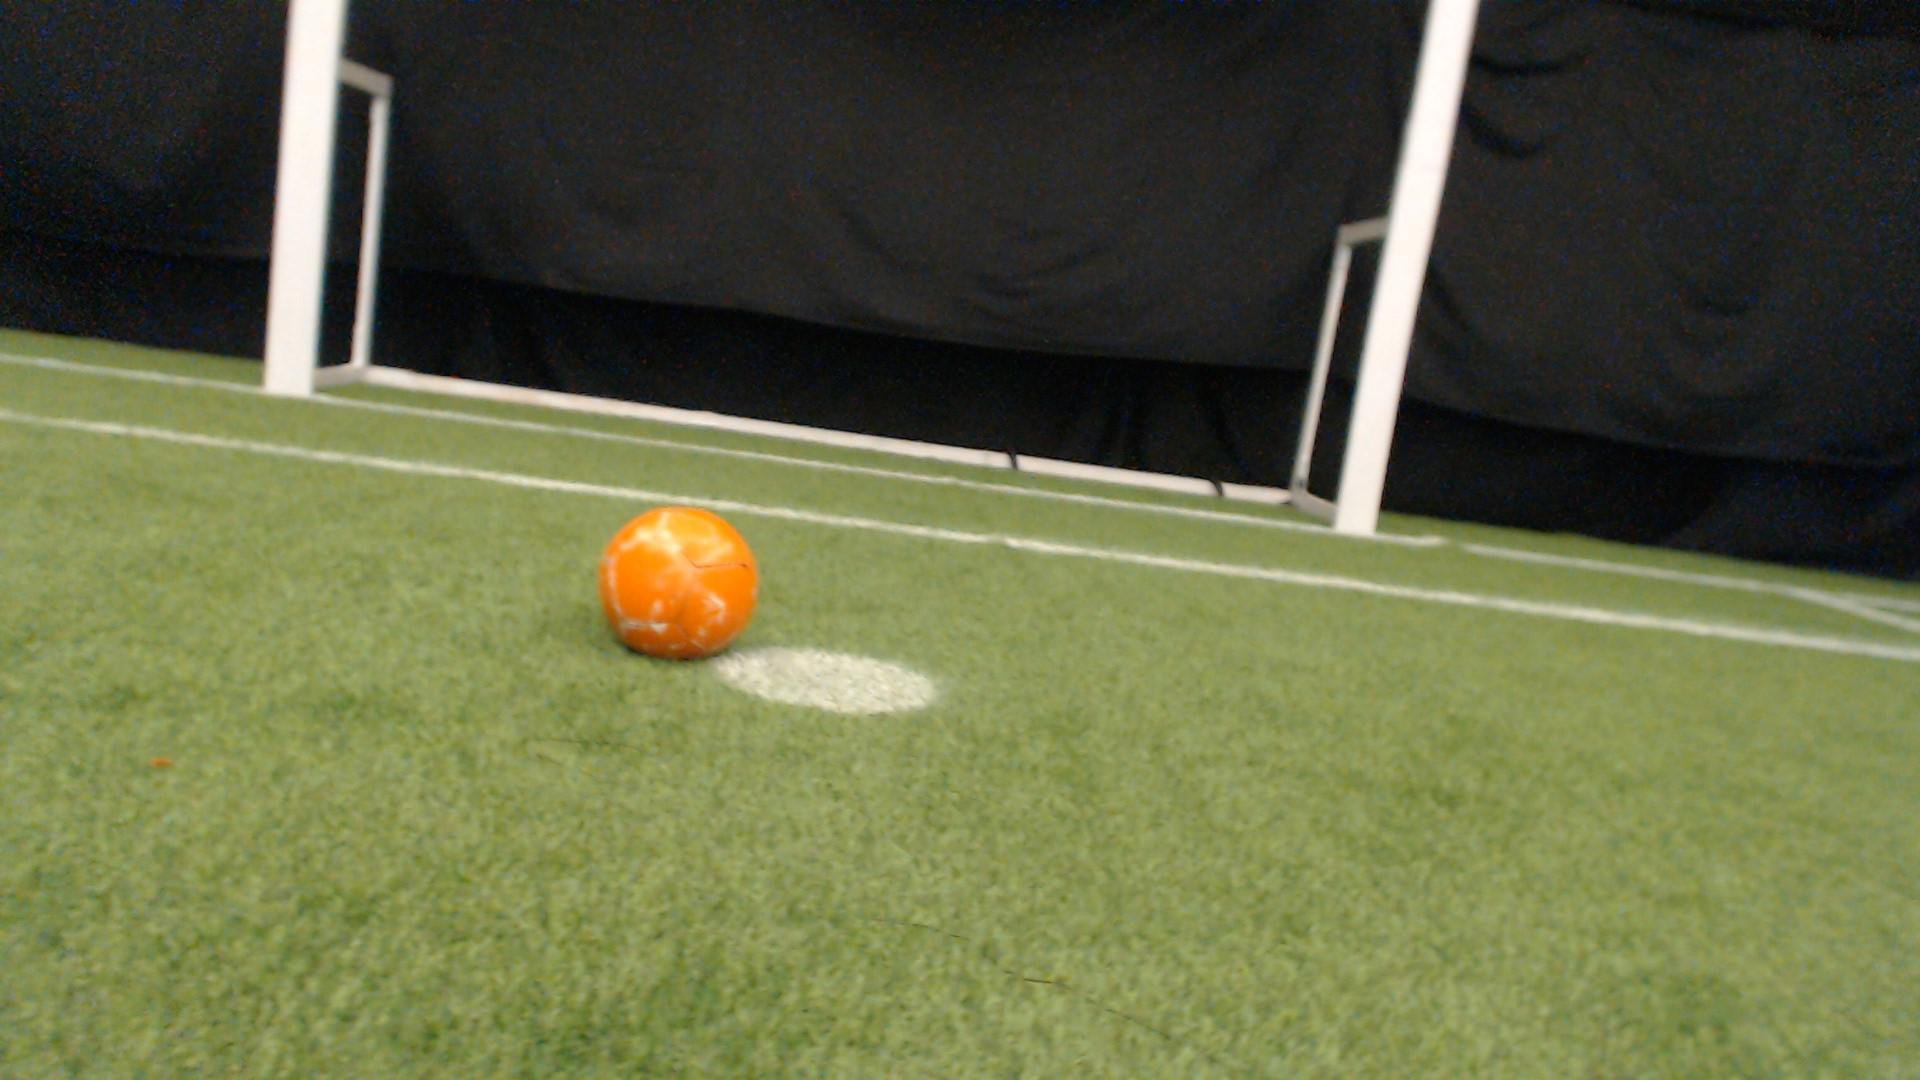bola: (574, 495, 786, 682)
